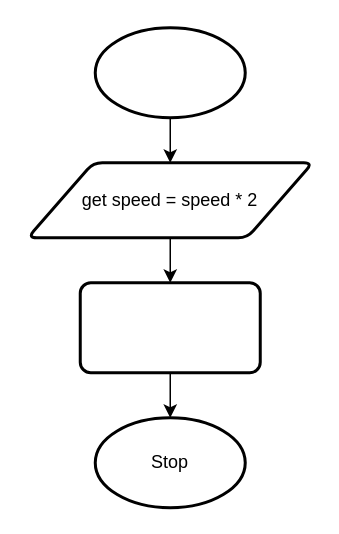
The diagram is 339 pixels wide and 534 high, and some of its shapes have lost their labels. The shapes that lost their labels are listed below. From the top down, each one's centre as x and y in pixels, then its label:
(169,72): Start
(169,327): this.speed = speed
